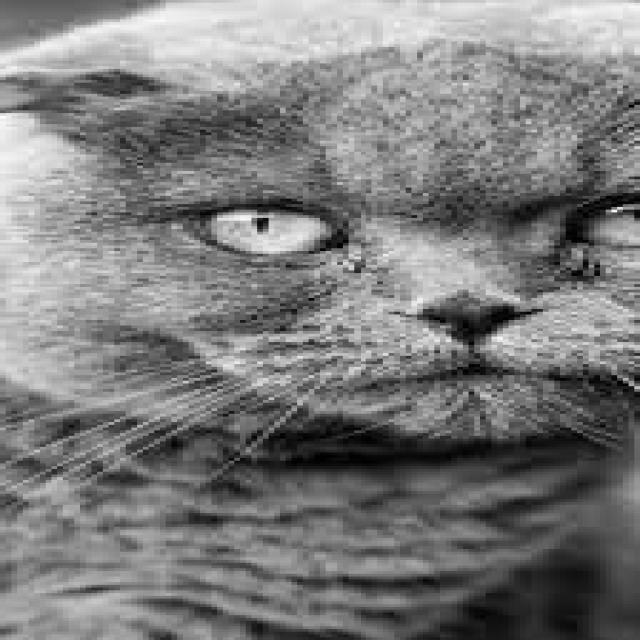scootish: (0, 1, 640, 417)
